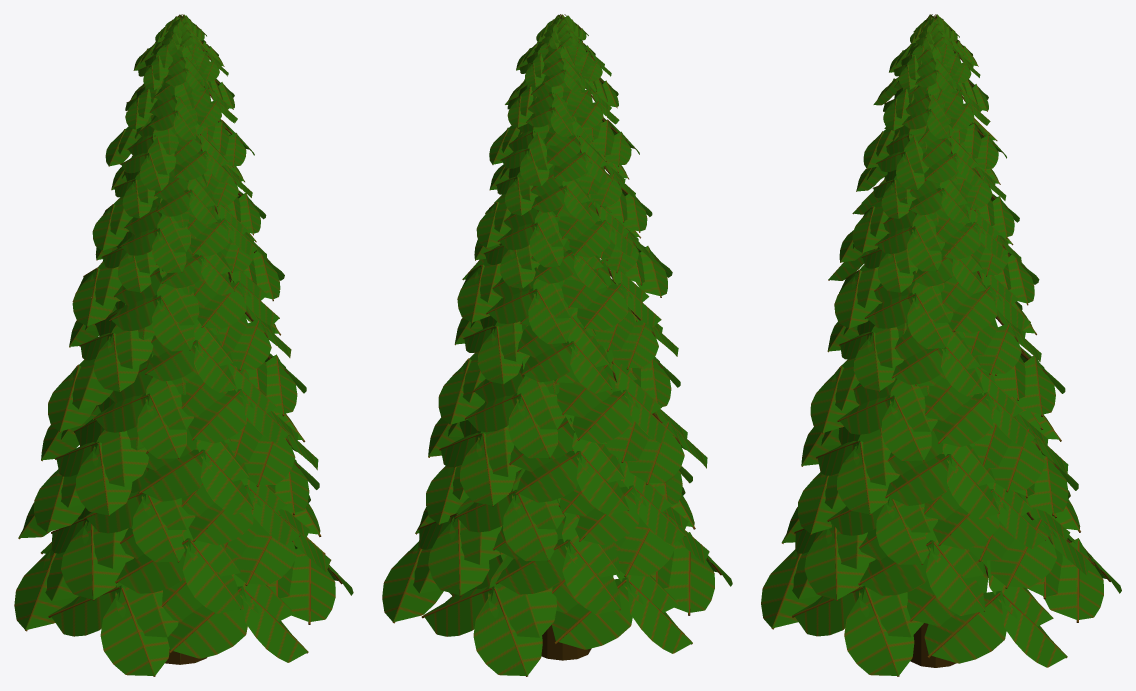
File: Tree.fbx
3 views of the same model, side by side, from view 1: azimuth 30°, elevation 25°; view 2: azimuth 150°, elevation 25°; view 3: azimuth 270°, elevation 25° (orthographic).
Parts seen in each view (by area): view 1: Circle; view 2: Circle; view 3: Circle.
Boxes of the visible parts, x1=… form: Circle: x1=14, y1=14, x2=353, y2=676; Circle: x1=382, y1=14, x2=732, y2=676; Circle: x1=761, y1=14, x2=1121, y2=676.
Bounding box in the file's own units: 3717 × 7889 × 4028.
